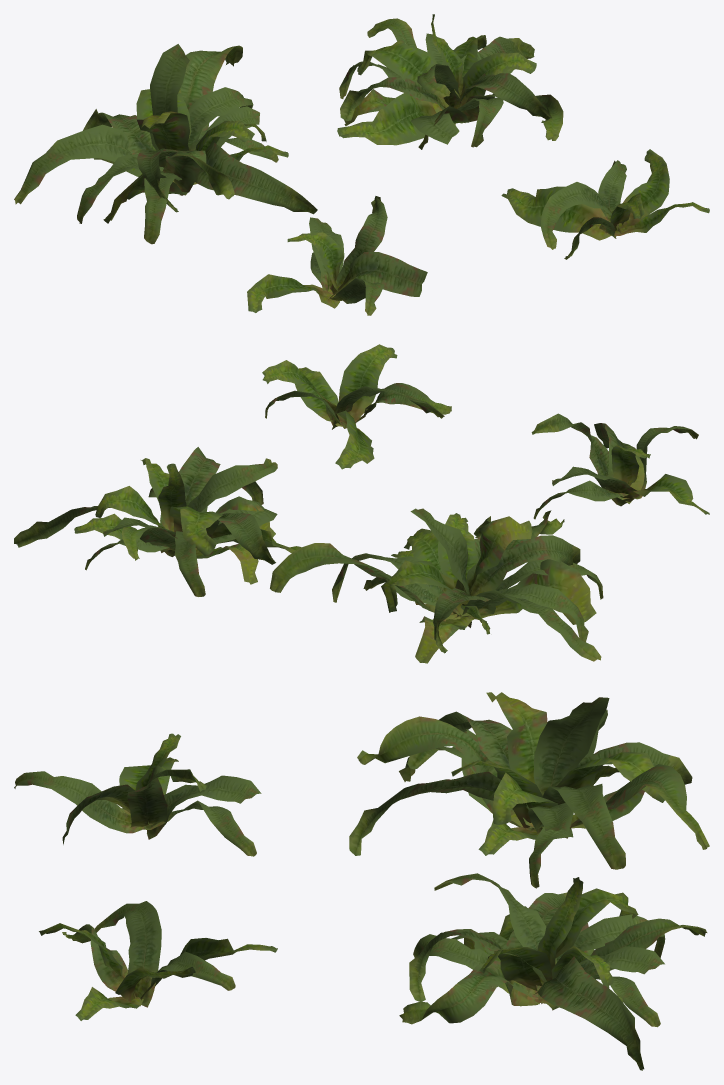
Rendered from fern-02.glb.
The picture shows the model from 3 angles, top to bottom: view 1: azimuth 30°, elevation 25°; view 2: azimuth 150°, elevation 25°; view 3: azimuth 270°, elevation 25°; orthographic projection. The views are drawn at different scales.
Visible parts, largest first — view 1: fern_02_b, fern_02_c, fern_02_d, fern_02_a; view 2: fern_02_b, fern_02_c, fern_02_d, fern_02_a; view 3: fern_02_b, fern_02_c, fern_02_a, fern_02_d.
Part boxes in pixels (<box>): fern_02_b: <box>14,44,317,244</box>; fern_02_c: <box>337,14,563,149</box>; fern_02_d: <box>501,149,709,259</box>; fern_02_a: <box>247,196,427,315</box>; fern_02_b: <box>270,508,603,663</box>; fern_02_c: <box>14,447,300,596</box>; fern_02_d: <box>262,344,451,469</box>; fern_02_a: <box>531,413,709,519</box>; fern_02_b: <box>349,692,709,888</box>; fern_02_c: <box>399,873,707,1070</box>; fern_02_a: <box>14,733,261,856</box>; fern_02_d: <box>39,901,277,1020</box>.
Size of the model in its own units: 1.97 by 0.4277 by 1.72.
1 material, 1 textured.
